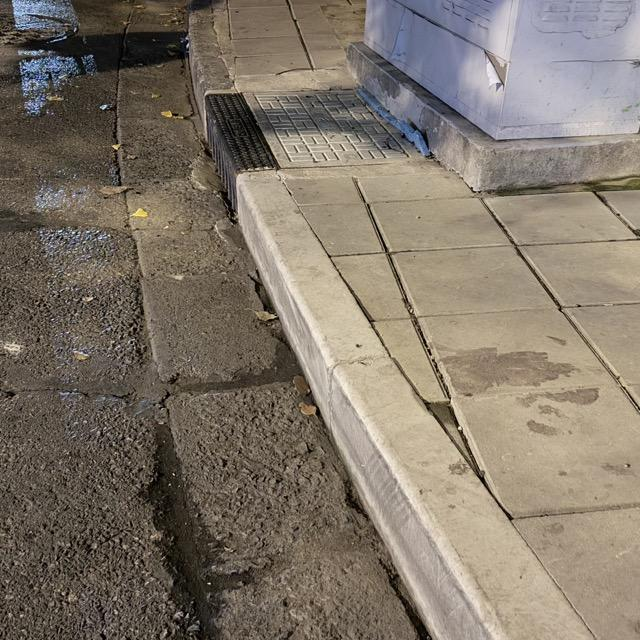curb: (189, 9, 589, 639)
